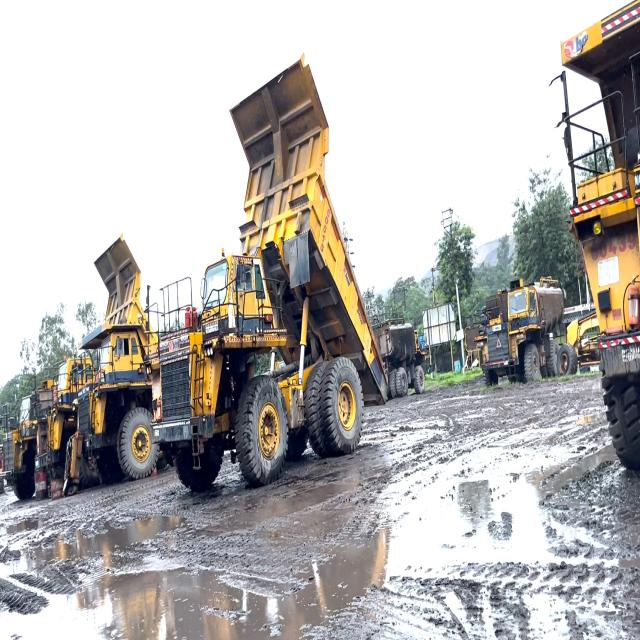dump_truck: (155, 60, 386, 465), (560, 20, 640, 466), (83, 334, 153, 481), (481, 276, 563, 379), (34, 380, 70, 478), (2, 390, 32, 496)
